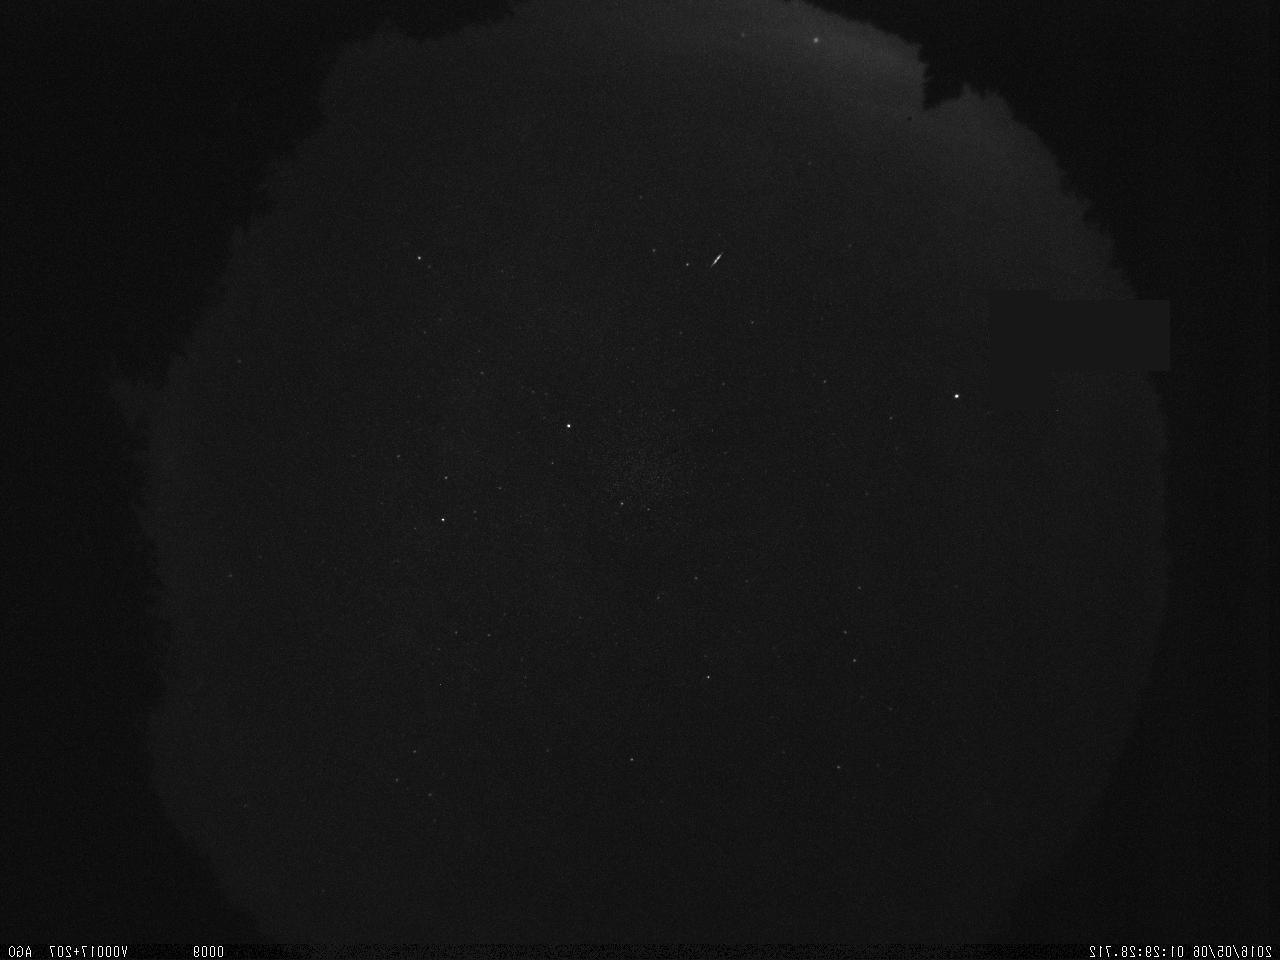meteor: (703, 248, 730, 279)
